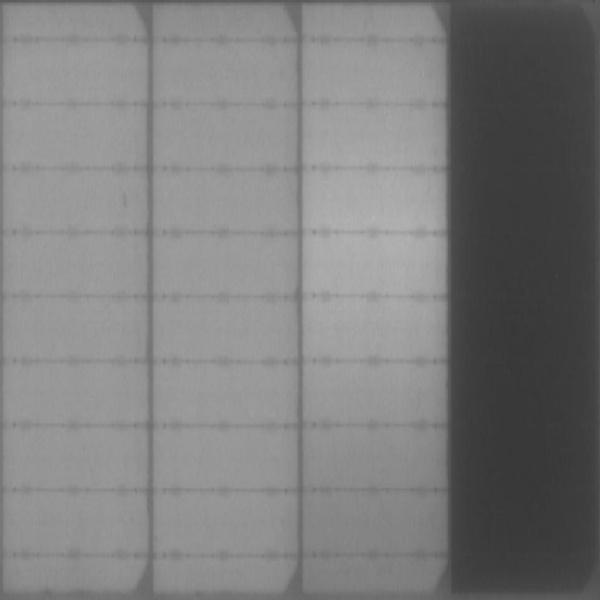no_electricity: (451, 1, 597, 597)
